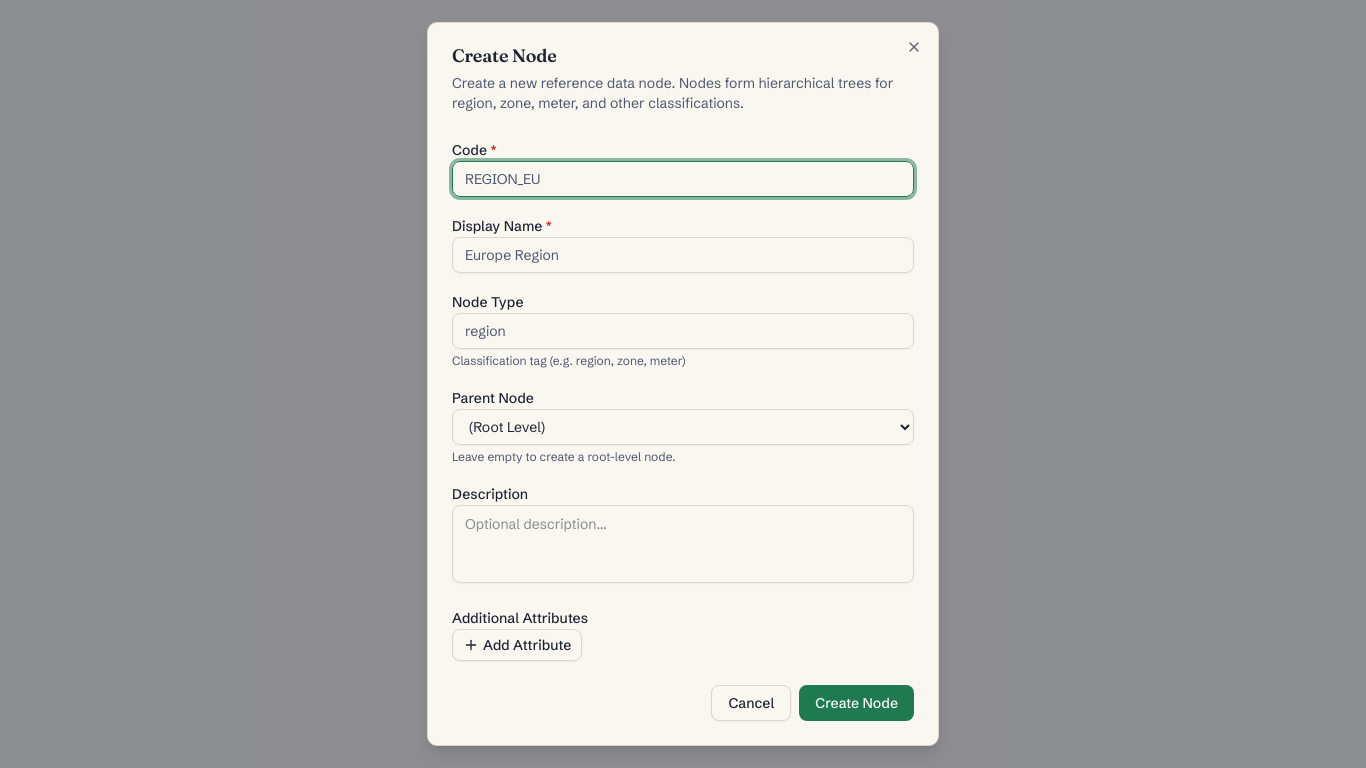
Test: CreateNodeDialog - validation › shows error when code is empty
Click the button "Create Node" at (857, 703), box left=799, top=685, right=914, bottom=721
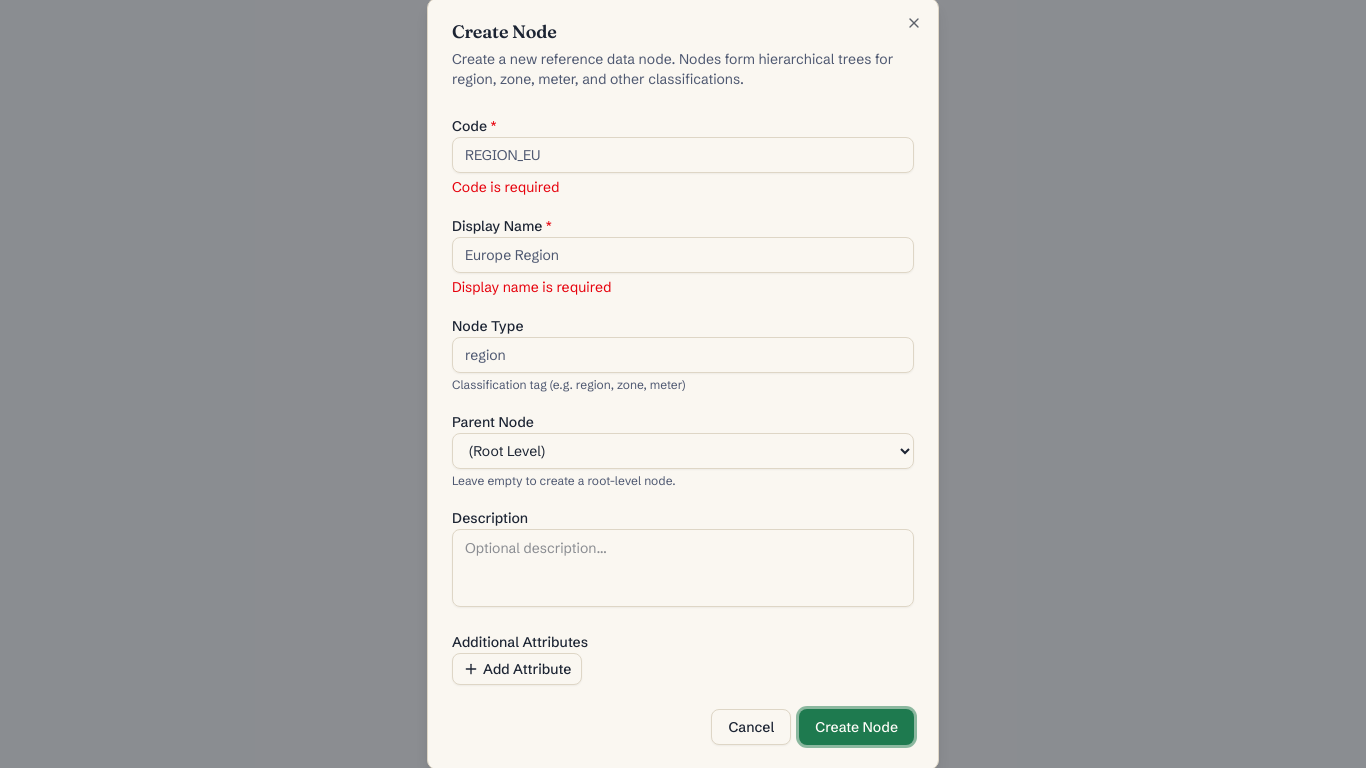
Expected: the text "Code is required" is shown, left=452, top=178, right=560, bottom=196
